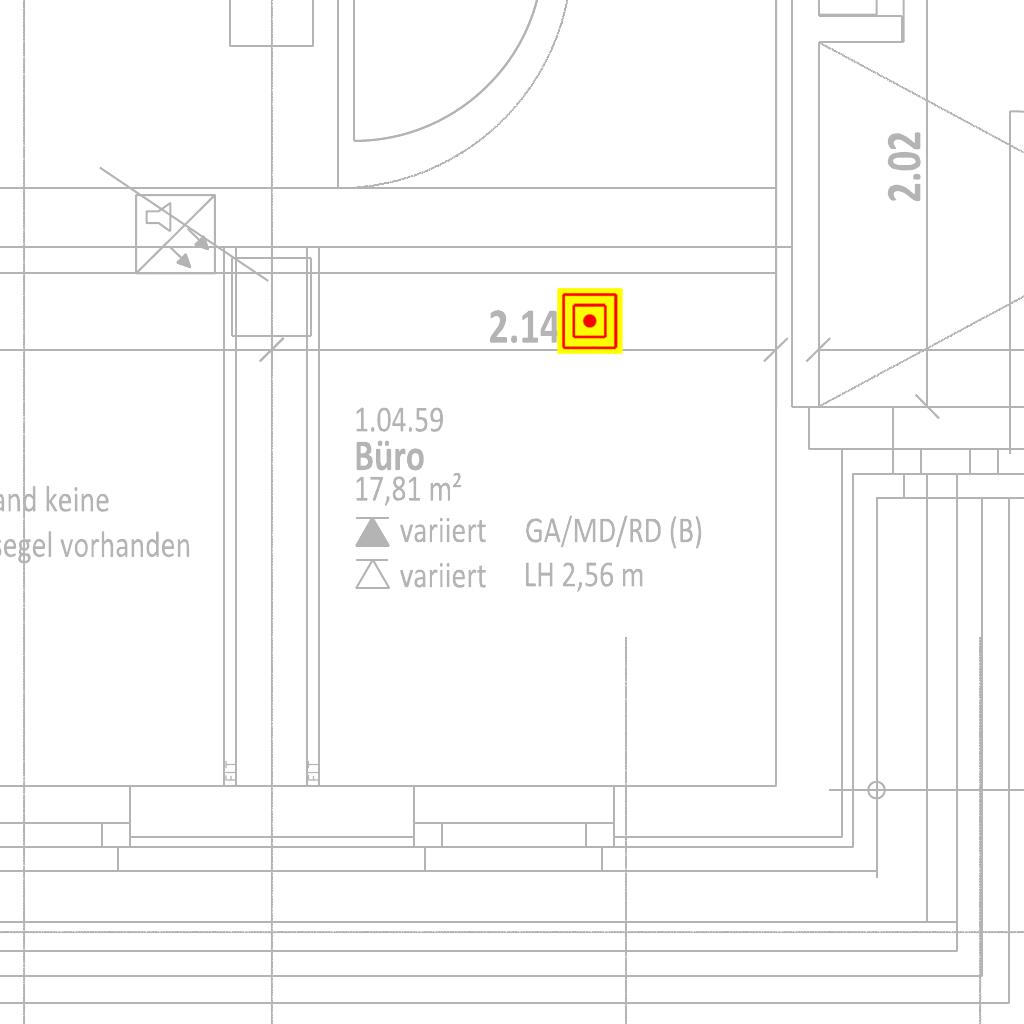NAM-Nichtautomatischer_Melder: (557, 288, 623, 354)
